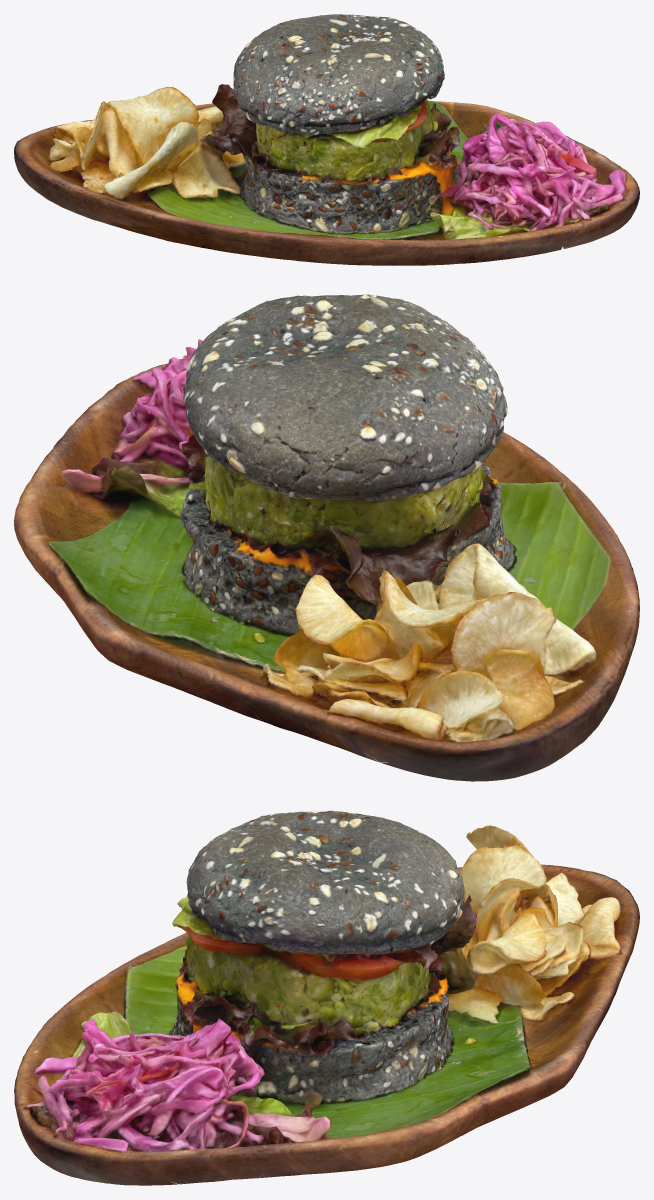
The model's file is Blackend_Edamane_Burger.glb.
The picture shows the model from 3 angles, top to bottom: view 1: azimuth 30°, elevation 25°; view 2: azimuth 150°, elevation 25°; view 3: azimuth 270°, elevation 25°; orthographic projection. The views are drawn at different scales.
Parts seen in each view (by area): view 1: pCube2; view 2: pCube2; view 3: pCube2.
Part boxes in pixels (x1=…): pCube2: x1=14, y1=14, x2=639, y2=265; pCube2: x1=14, y1=294, x2=639, y2=781; pCube2: x1=14, y1=810, x2=639, y2=1185.
Size of the model in its own units: 0.2606 by 0.0893 by 0.2364.
Materials: 1 (1 with a texture image).
